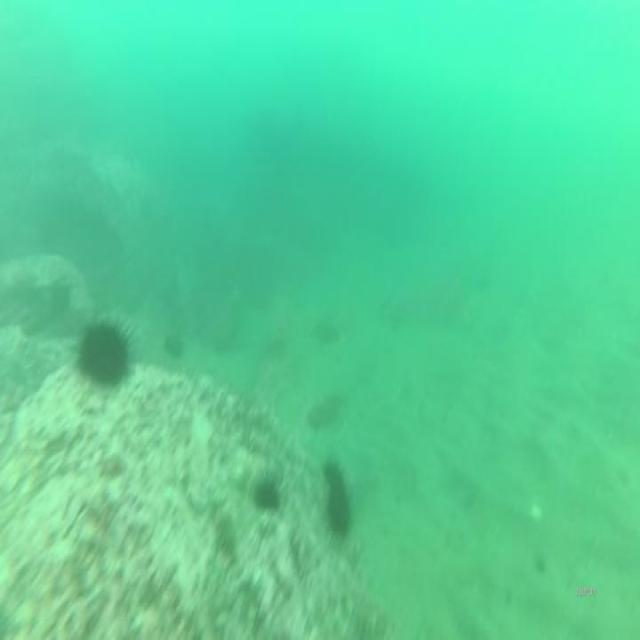echinus: (76, 313, 130, 393), (322, 471, 356, 536), (251, 460, 281, 517)
